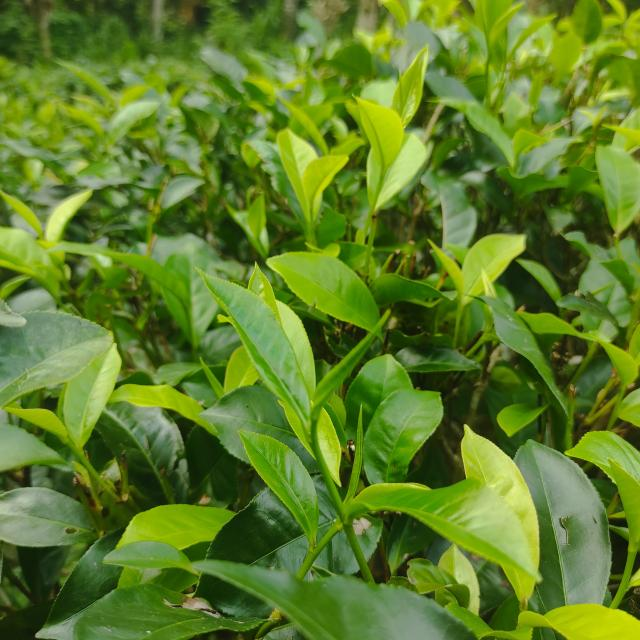unopened_leaf: (306, 300, 396, 436), (336, 397, 372, 508), (191, 349, 232, 402), (390, 62, 410, 118)
